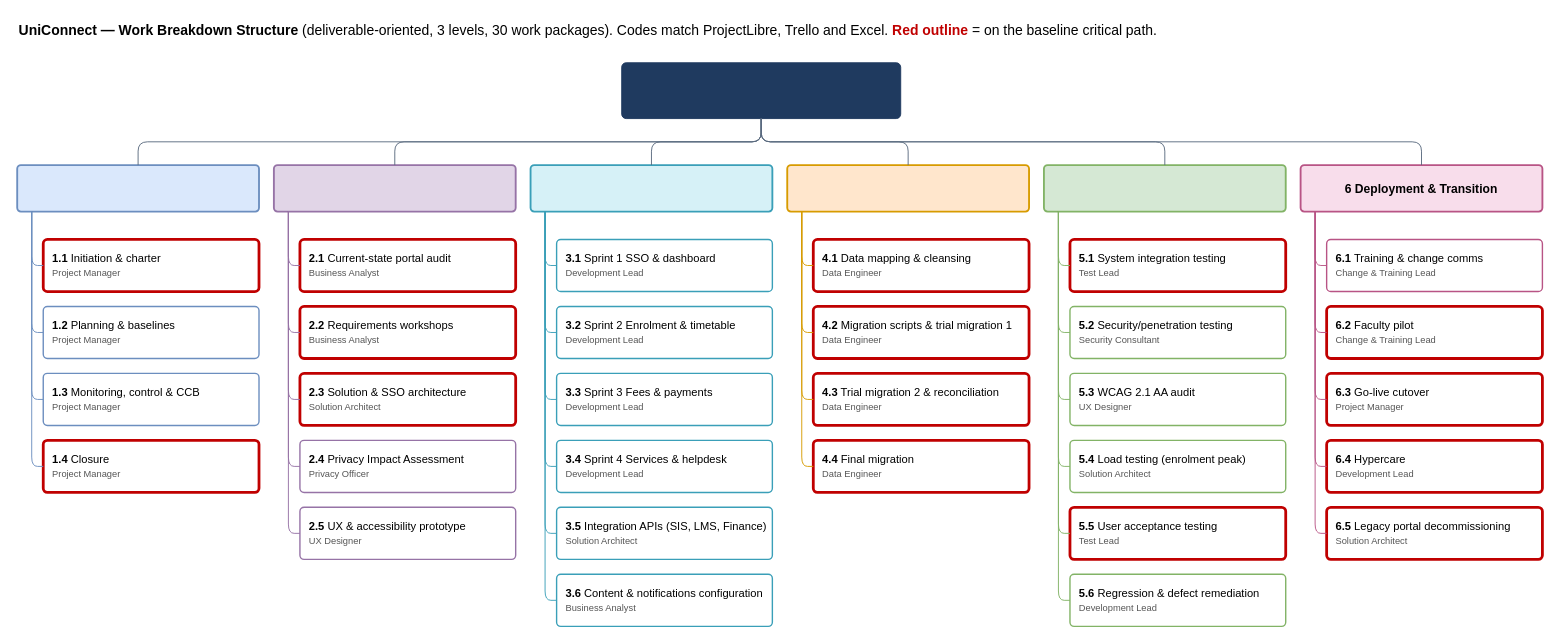
The diagram is 1560 pixels wide and 643 high, and some of its shapes have lost their labels. The shapes that lost their labels are listed below. From the top down, each one's centre as x and y in pixels, then its label:
point 761,90: 0 UniConnect Student Portal Consolidation
point 137,188: 1 Project Management
point 394,188: 2 Requirements & Design
point 651,188: 3 Portal Build (Agile)
point 908,188: 4 Data Migration
point 1164,188: 5 Testing & Quality
